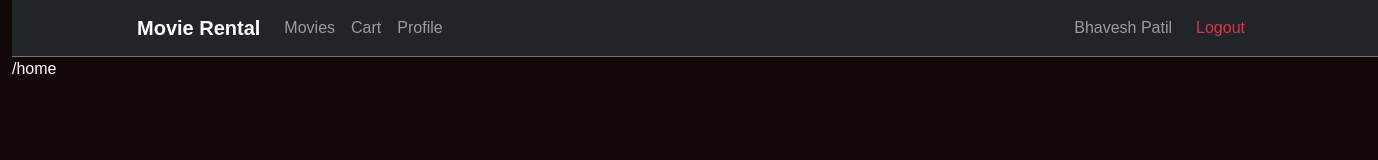
AppNavBar › Profile link navigates to profile page
The image size is (1378, 160).
Click the link "Profile" at {"x": 420, "y": 28}, box top-left (397, 19), bottom-right (443, 36)
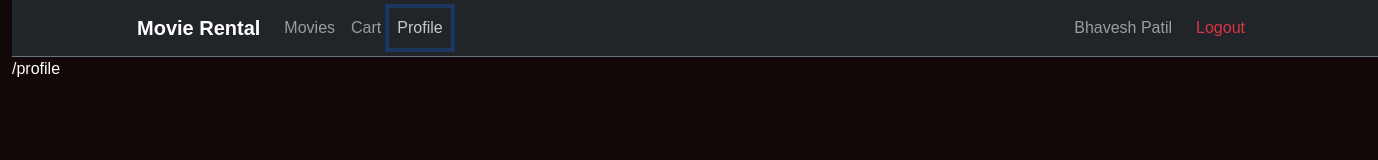
Result: the text with test id "location" reads "/profile" at top-left (12, 60), bottom-right (60, 77)
